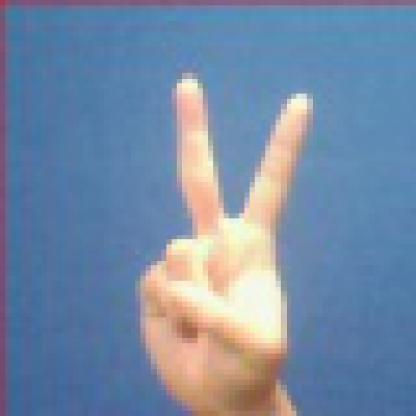two: (125, 67, 333, 410)
